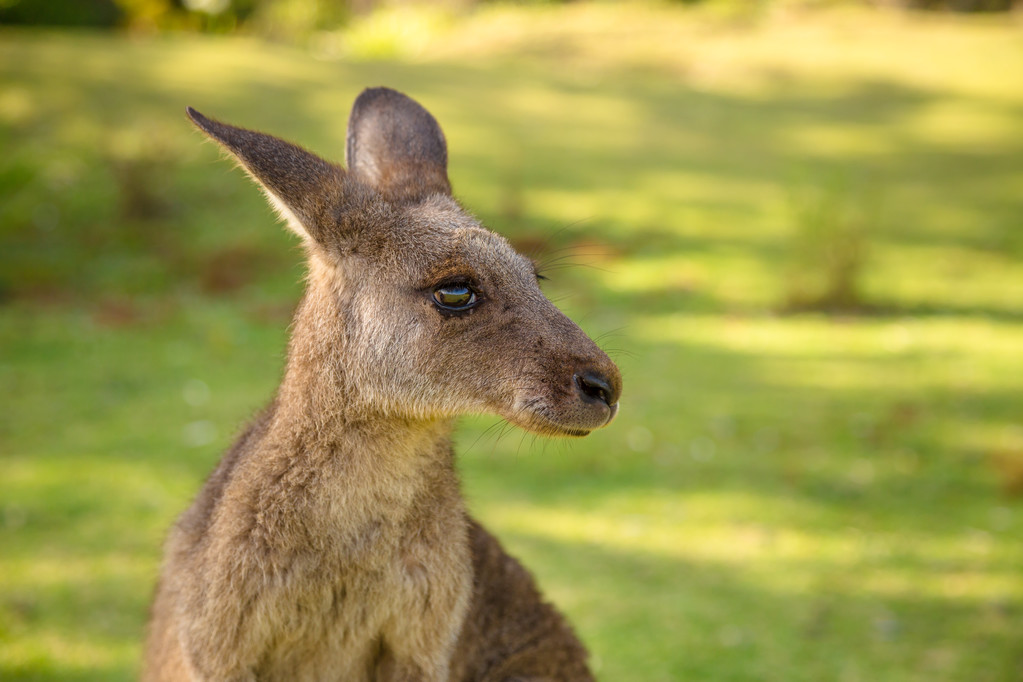kangaroo: (157, 81, 643, 678)
